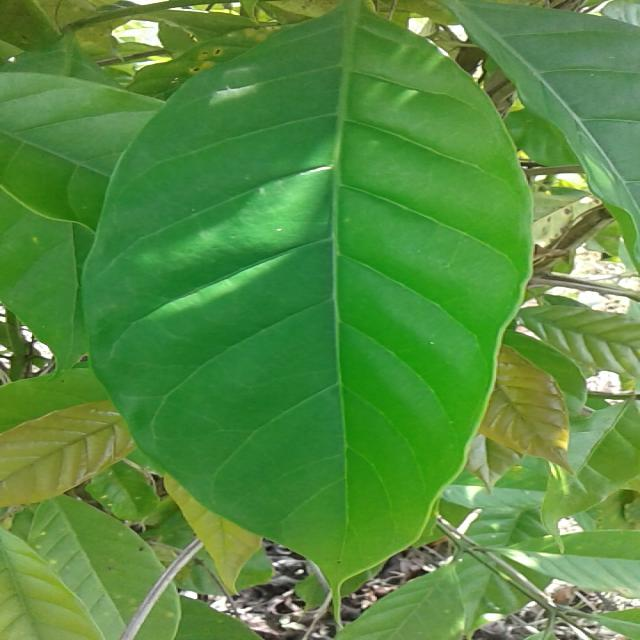Sanas: (87, 14, 535, 590)
